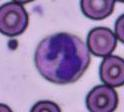N: (34, 33, 90, 84)
